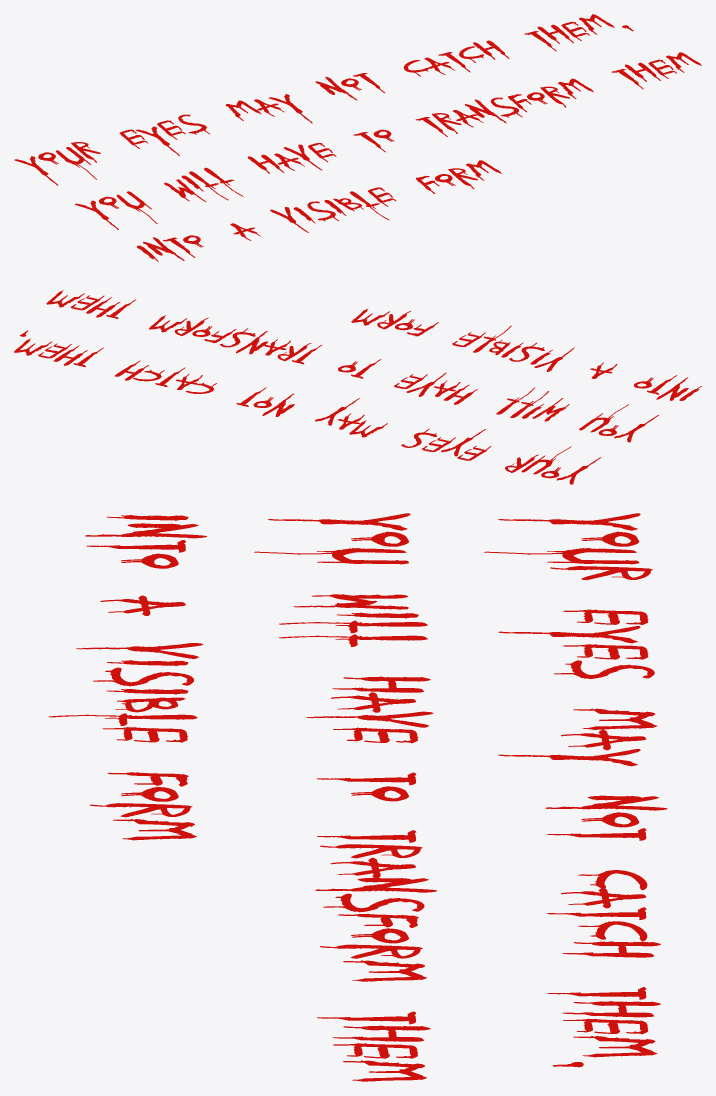
The picture shows the model from 3 angles, top to bottom: view 1: azimuth 30°, elevation 25°; view 2: azimuth 150°, elevation 25°; view 3: azimuth 270°, elevation 25°; orthographic projection. The views are drawn at different scales.
Parts seen in each view (by area): view 1: Text; view 2: Text; view 3: Text.
Part boxes in pixels (x1=…): Text: x1=14, y1=14, x2=701, y2=261; Text: x1=14, y1=290, x2=701, y2=484; Text: x1=48, y1=513, x2=667, y2=1081.
Size of the model in its own units: 584 by 4.38e-05 by 269.
